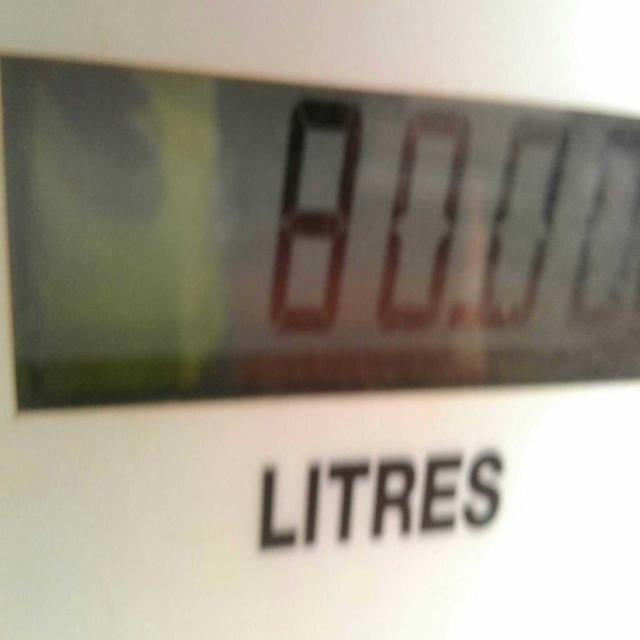.: (441, 276, 472, 365)
0: (374, 105, 469, 365), (478, 113, 570, 344)
8: (267, 81, 371, 358)
